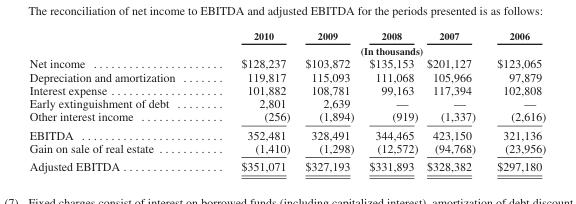table: (28, 29, 545, 172)
table column: (28, 29, 207, 172), (207, 29, 297, 172), (421, 29, 485, 172), (297, 29, 360, 172), (360, 29, 421, 172), (485, 29, 545, 172)
table column header: (28, 29, 545, 56)
table row: (28, 109, 545, 125), (28, 125, 545, 141), (28, 156, 545, 172), (28, 141, 545, 156), (28, 42, 545, 56), (28, 69, 545, 83), (28, 29, 545, 42), (28, 56, 545, 69), (28, 83, 545, 96), (28, 96, 545, 109)
table spanning cell: (207, 42, 545, 56)
